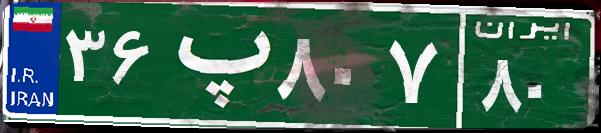0: (330, 28, 385, 110), (525, 38, 570, 115)
3: (57, 26, 110, 107)
6: (110, 28, 158, 105)
7: (385, 28, 445, 110)
8: (273, 28, 330, 110), (475, 38, 525, 113)
پ: (158, 15, 273, 115)
